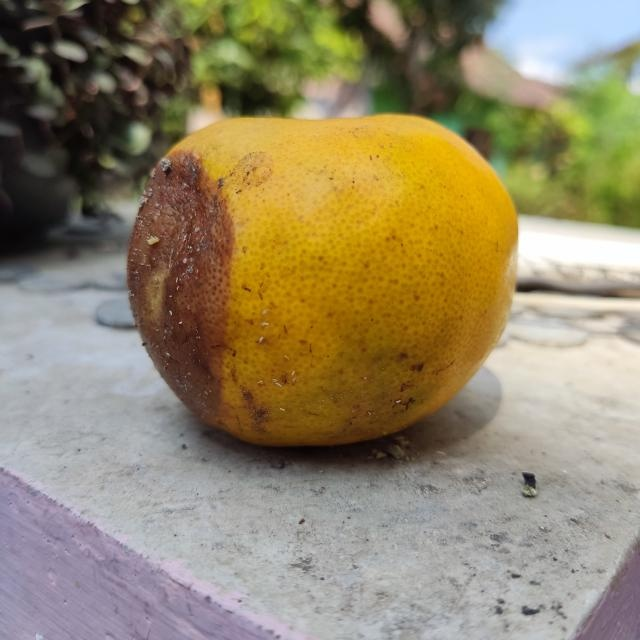agrume: (122, 113, 523, 447)
